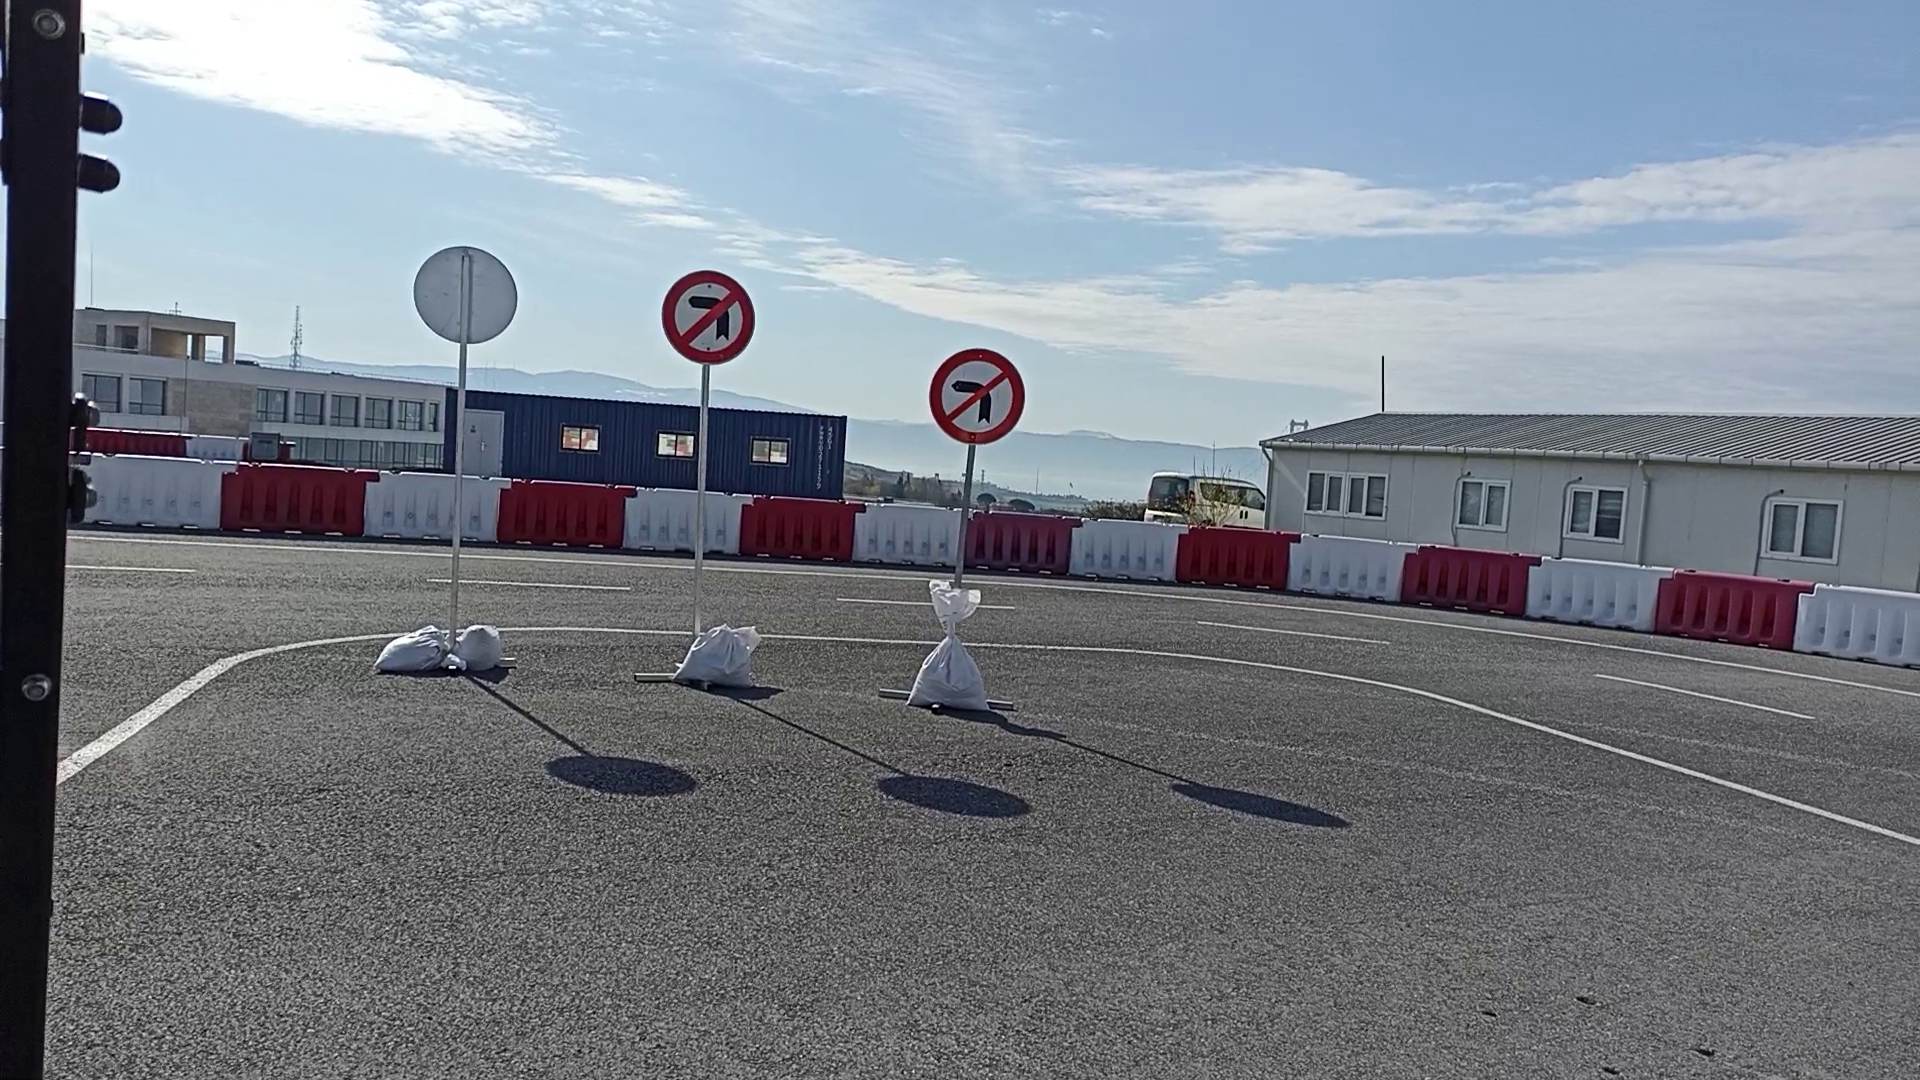noleft: (926, 347, 1027, 444), (661, 268, 757, 367)
